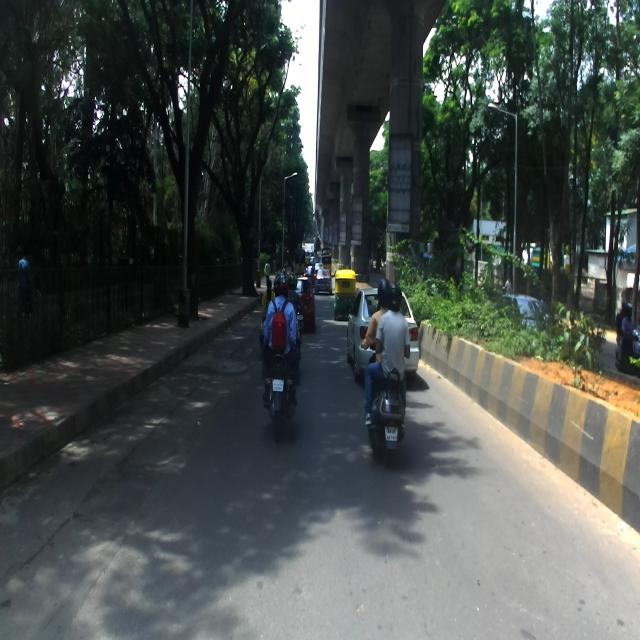electric pole ahead at: (171, 5, 201, 332)
motorcycle ahead at: (260, 348, 308, 446), (365, 364, 414, 459)
